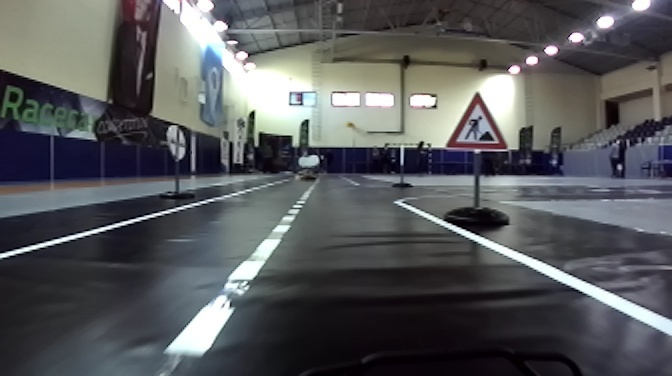yol_yapimi: (437, 88, 511, 148)
